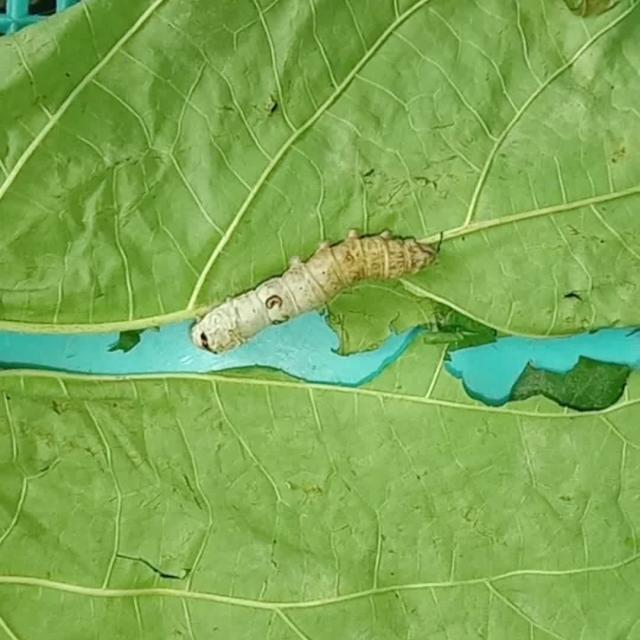Grasserie: (169, 181, 448, 401)
